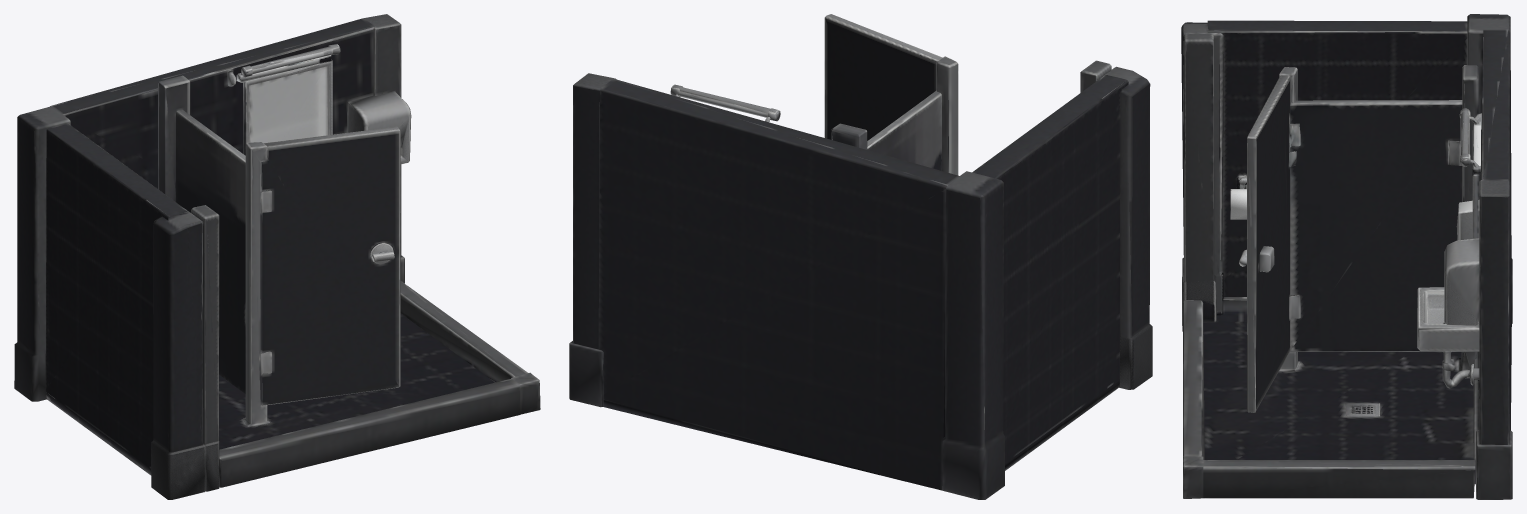
The picture shows the model from 3 angles, left to right: view 1: azimuth 30°, elevation 25°; view 2: azimuth 150°, elevation 25°; view 3: azimuth 270°, elevation 25°; orthographic projection. The views are drawn at different scales.
Size of the model in its own units: 0.957 by 0.6997 by 0.6851.
Materials: 1 (1 with a texture image).
